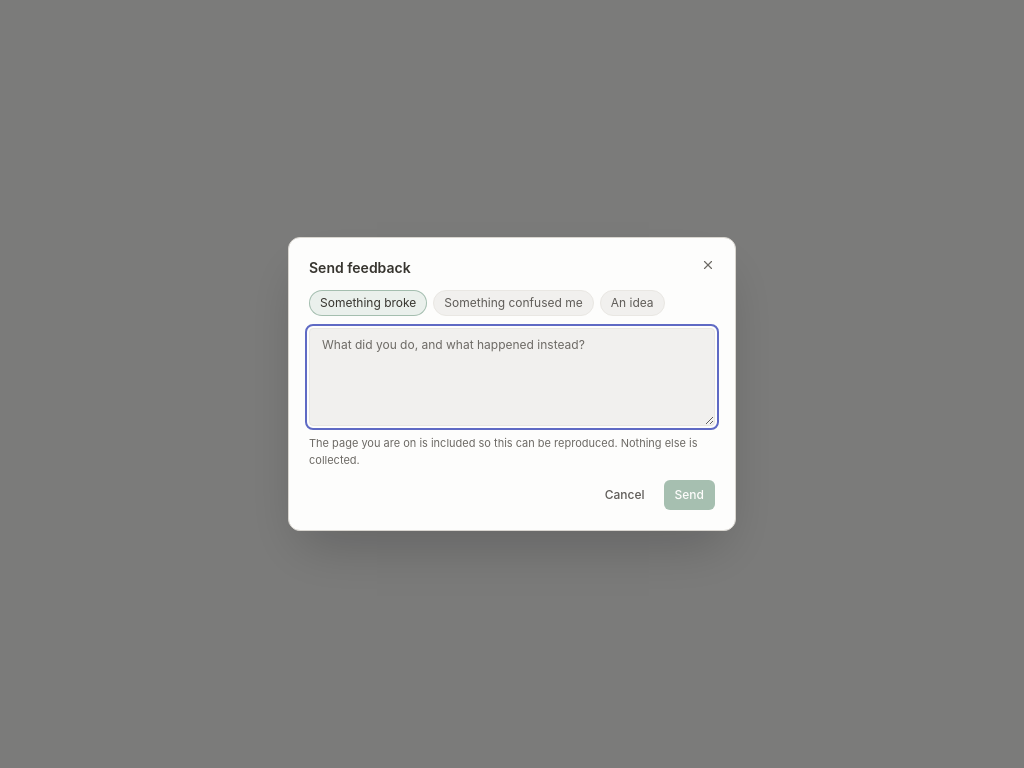
FeedbackModal › keeps the text on the screen when sending fails
In the text box named "your feedback": (512, 377) [309, 328, 715, 426], type "important report"
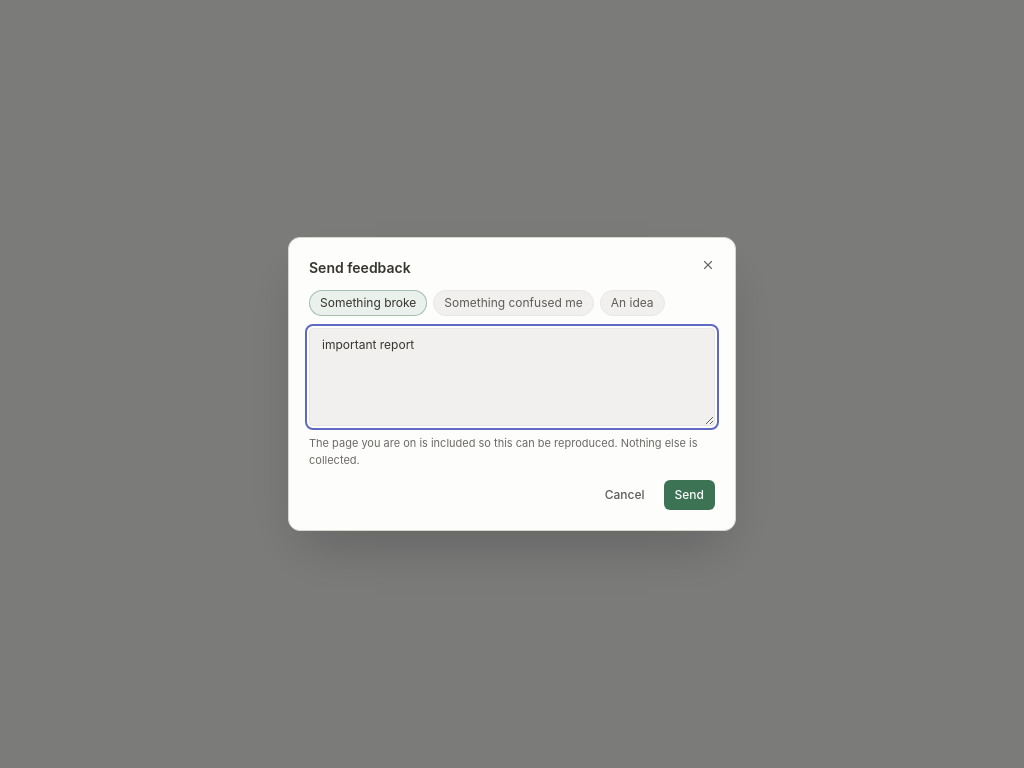
Click the button "Send": click(689, 495) [664, 480, 715, 510]
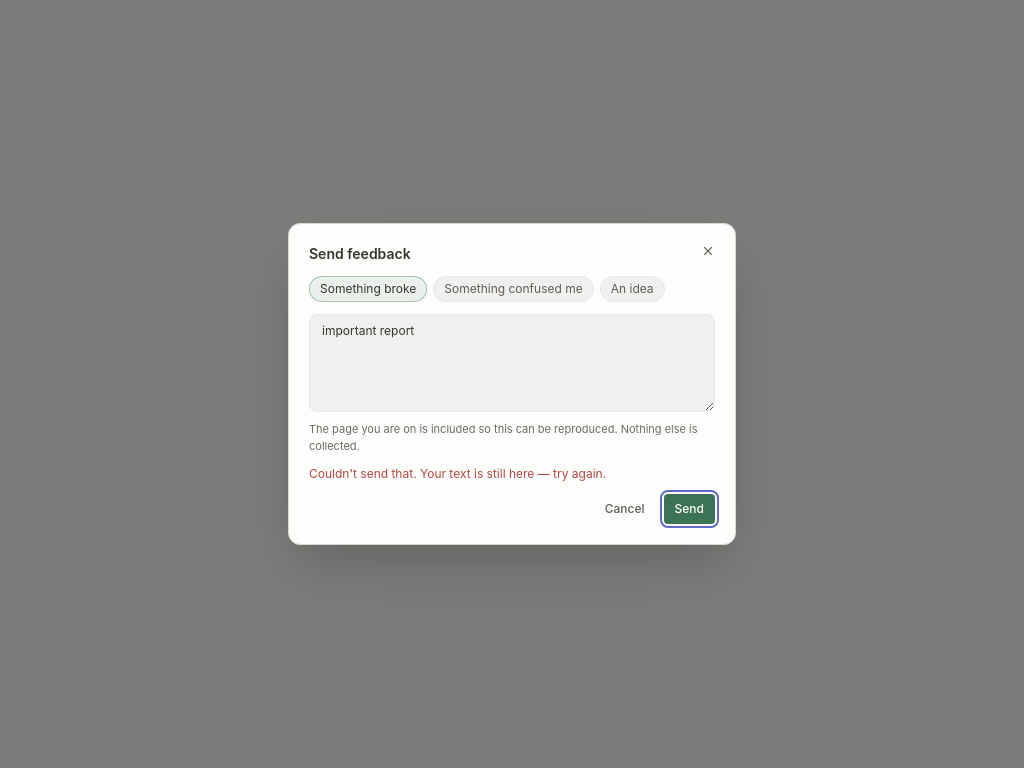
Result: the message shows "Your text is still here" at [309, 466, 606, 481]
